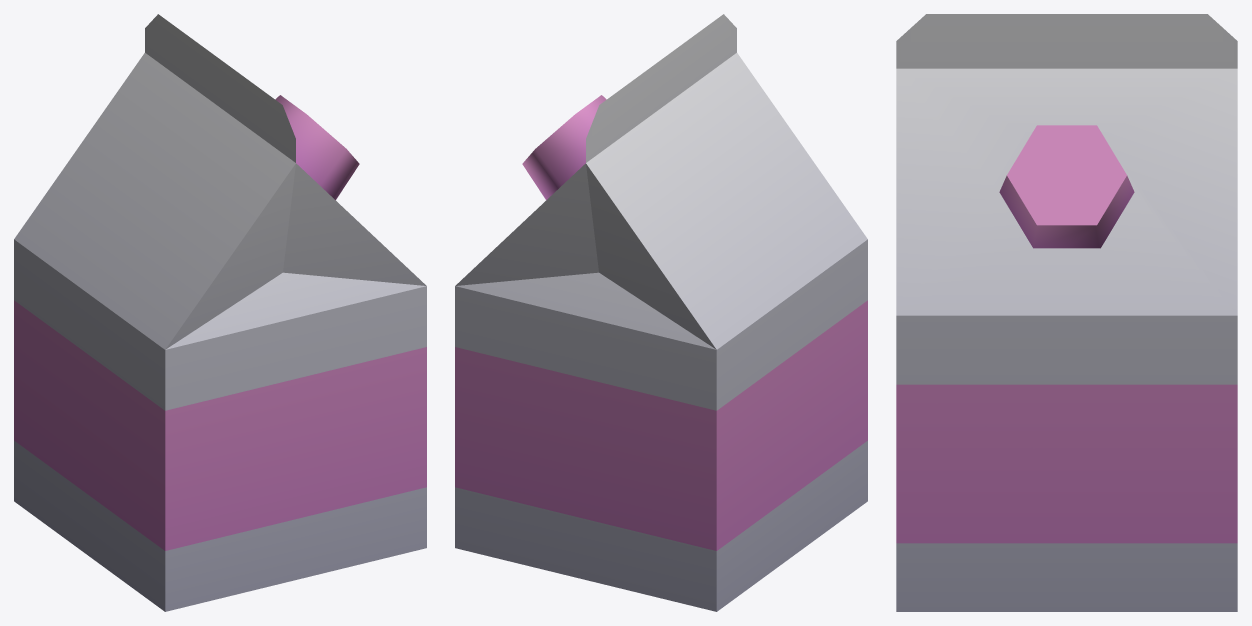
Rendered from carton-small.glb.
3 views of the same model, side by side, from view 1: azimuth 30°, elevation 25°; view 2: azimuth 150°, elevation 25°; view 3: azimuth 270°, elevation 25° (orthographic). The views are drawn at different scales.
Visible parts, largest first — view 1: carton-small; view 2: carton-small; view 3: carton-small.
Boxes of the visible parts, x1=… form: carton-small: x1=14, y1=14, x2=426, y2=611; carton-small: x1=455, y1=14, x2=867, y2=611; carton-small: x1=896, y1=14, x2=1237, y2=611.
Bounding box in the file's own units: 0.23 × 0.3905 × 0.23.
